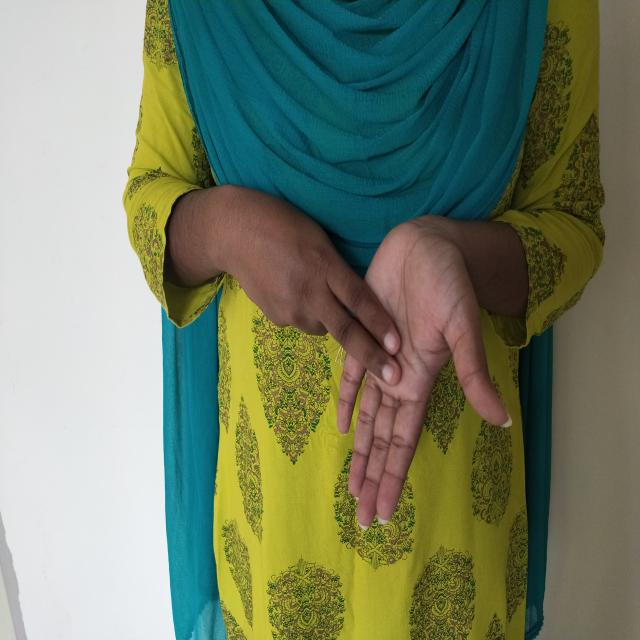N: (196, 165, 529, 540)
